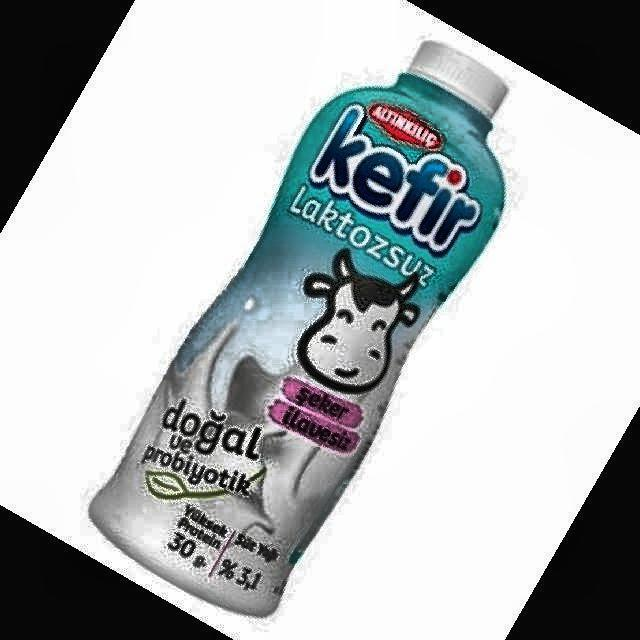plastic: (91, 45, 505, 615)
